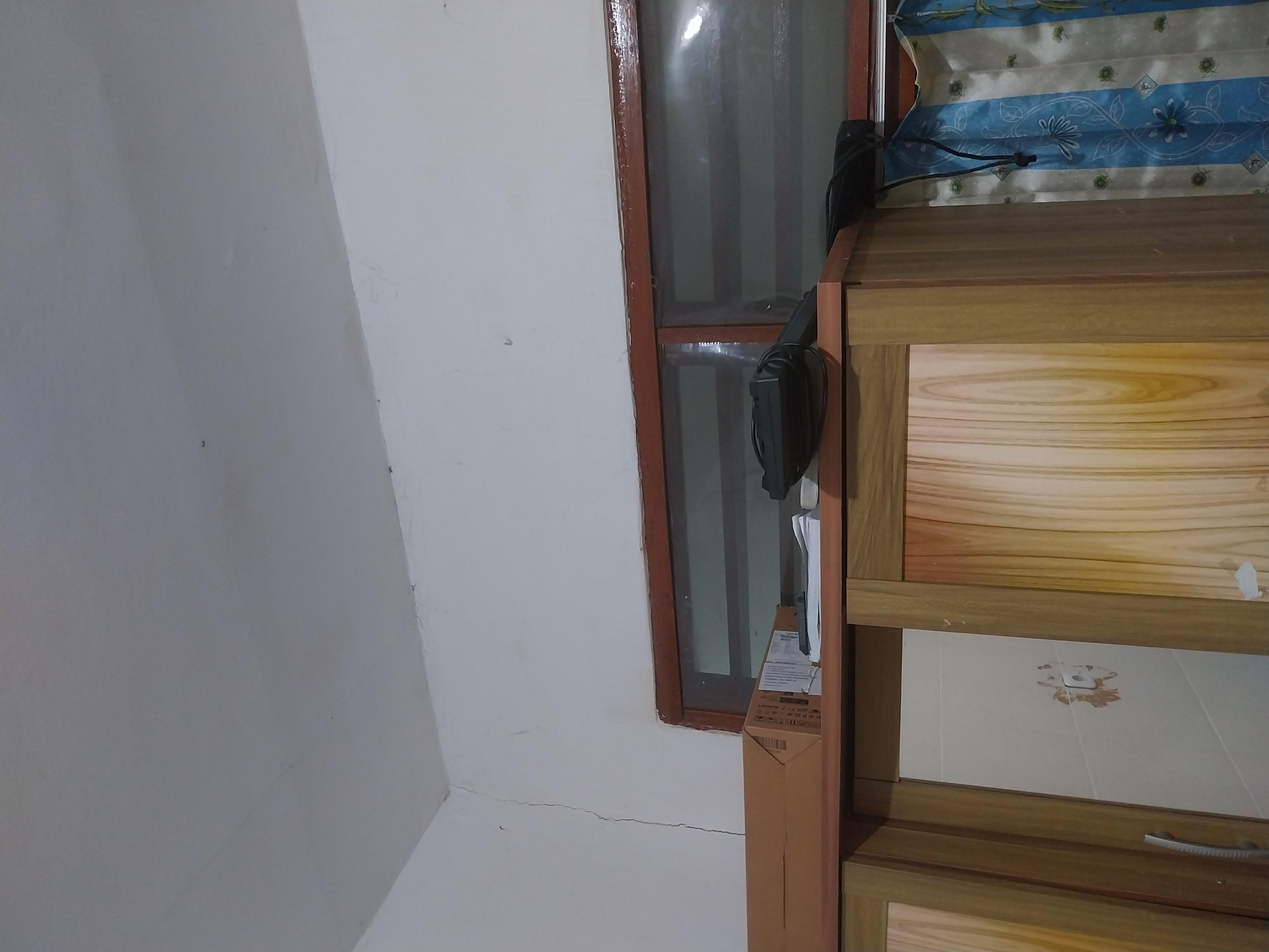box: (0, 553, 462, 622)
cabinet-merged: (0, 613, 1013, 952)
curtain: (996, 662, 1269, 952), (1027, 661, 1094, 737)
keyboard: (601, 558, 884, 625)
